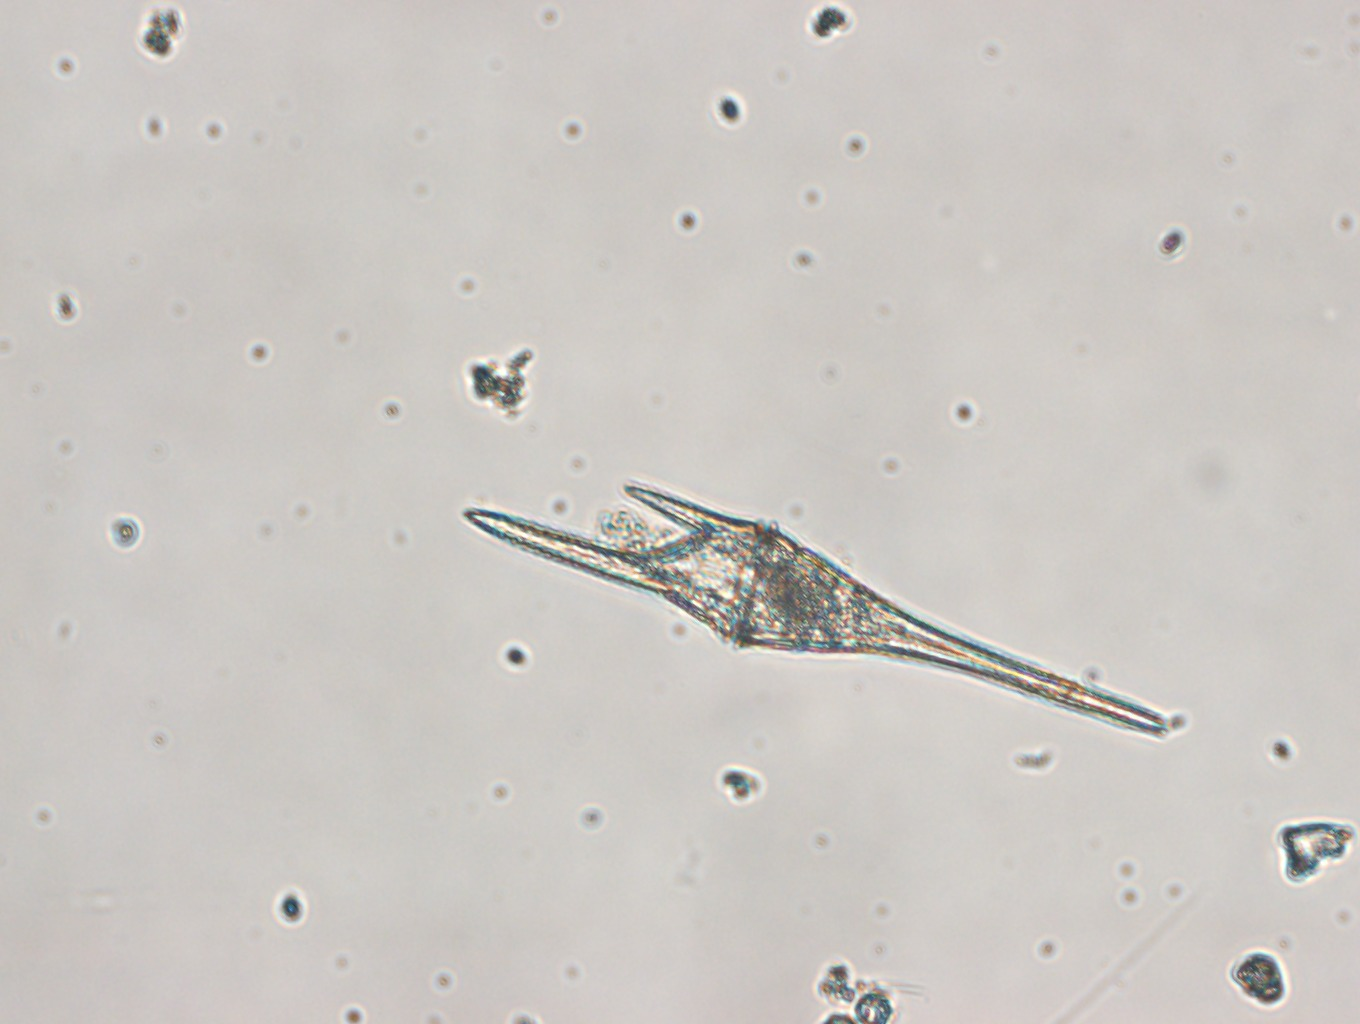ceratium furca: (460, 483, 1171, 739)
